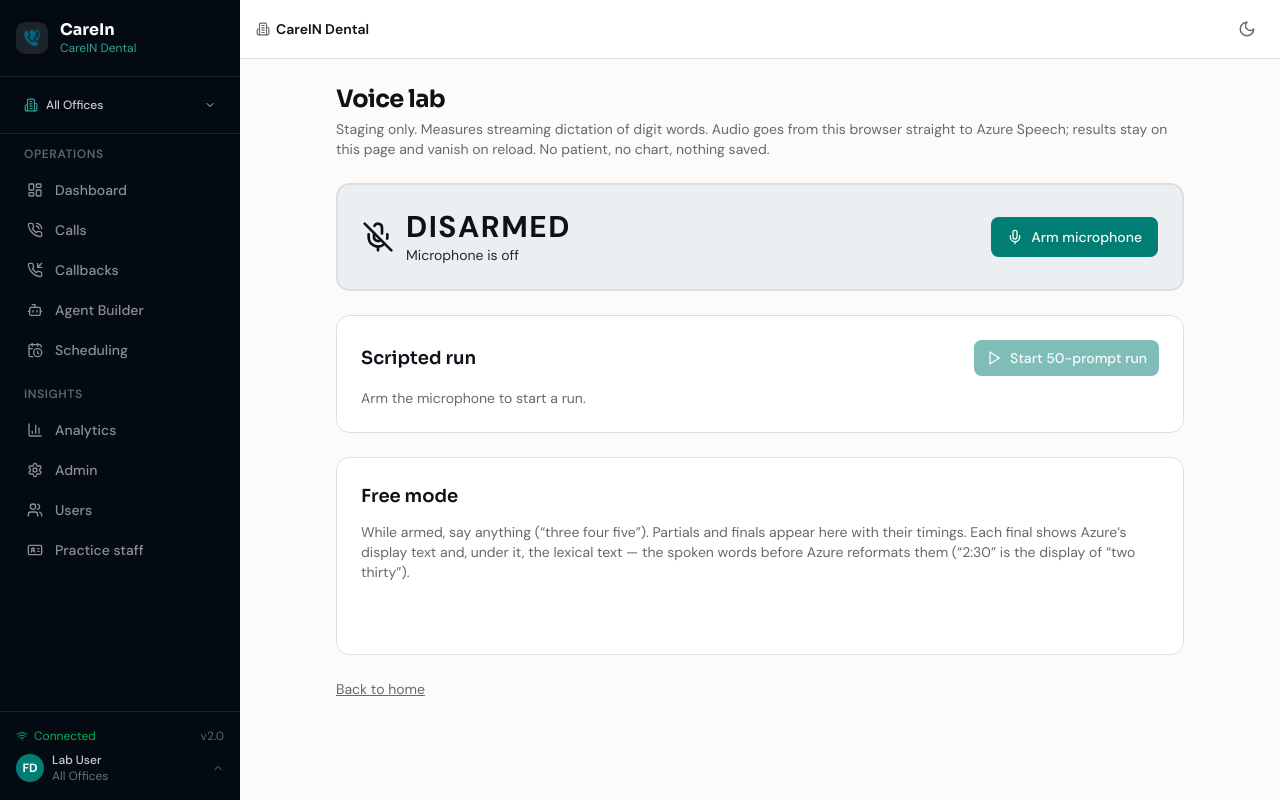
Test case: the scripted run and free mode › item 37: free mode shows BOTH forms of each final — display, and lexical (or that there was none)
The width and height of the screenshot is (1280, 800).
Step 1. Click the button with test id "voicelab-arm" → {"x": 1075, "y": 237}, box [991,217,1158,257]
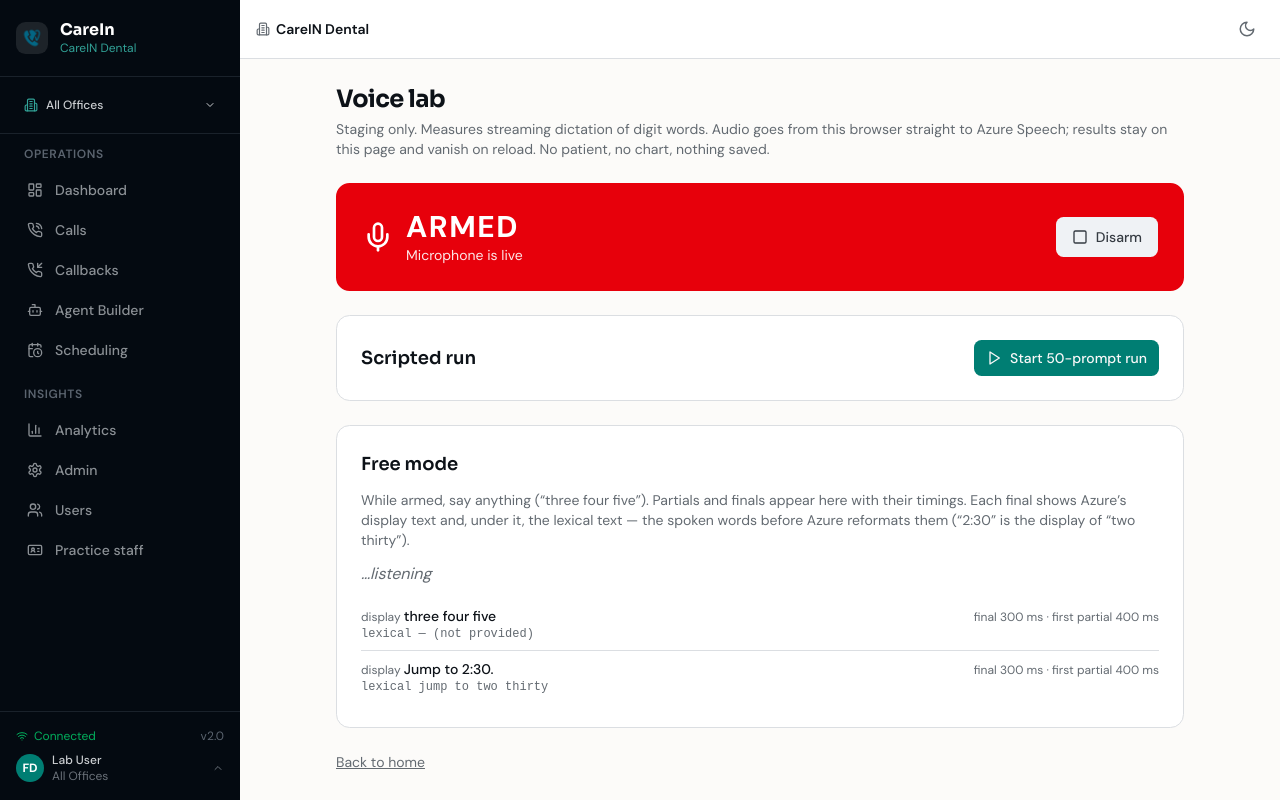
Expected: the element with test id "voicelab-free-display" reads "display Jump to 2:30.", [361,660,493,678]
Expected: the text with test id "voicelab-free-lexical" reads "lexical jump to two thirty", [361,679,548,695]
Expected: the element with test id "voicelab-free-display" reads "display three four five", [361,607,496,625]
